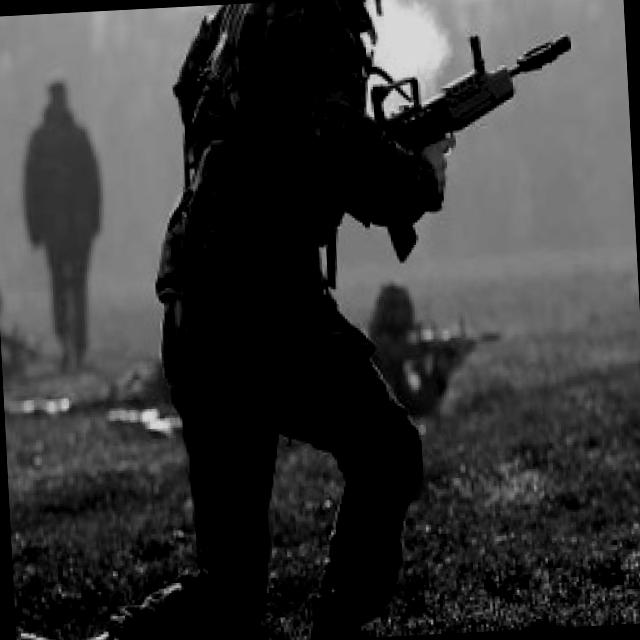long weapon: (340, 6, 581, 270)
